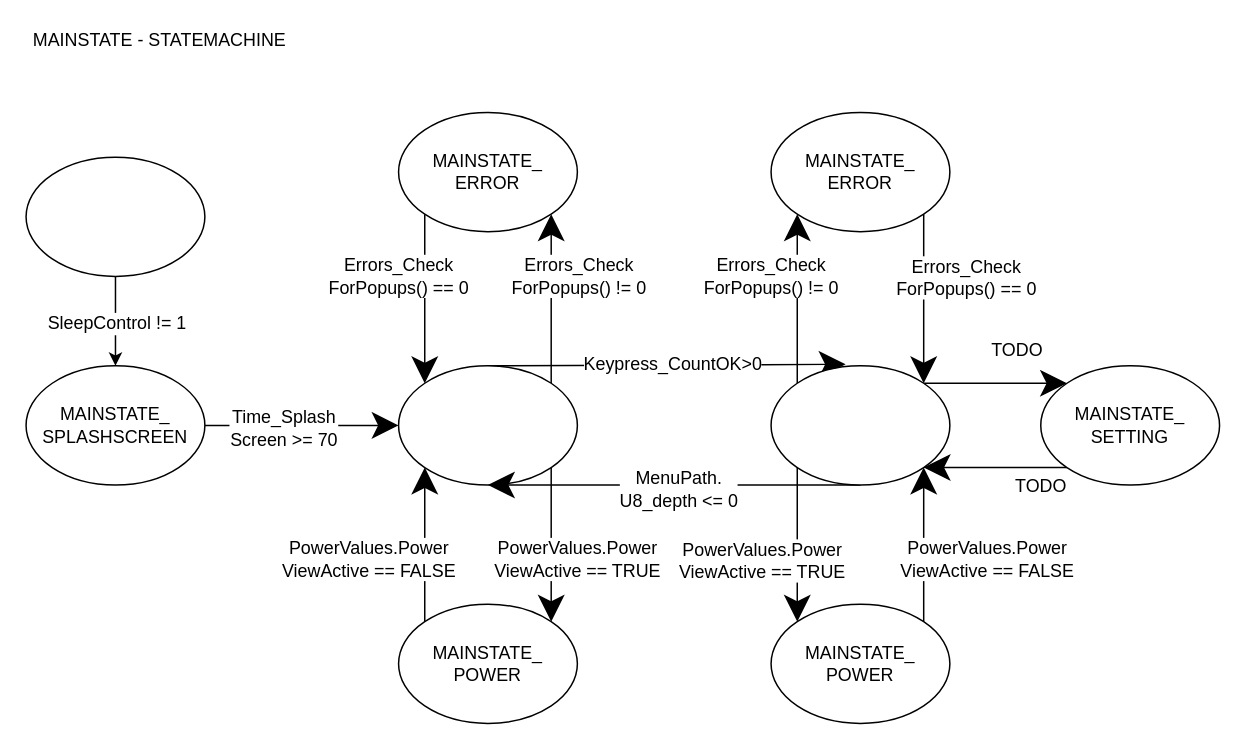
This 1246x749 diagram has some shape labels left out. The shapes that lost their labels are listed below. From the top down, each one's box as (x1, y1, x2, y2) in pixels, then its label:
(25, 156, 205, 276): MAINSTATE_SLEEP
(397, 364, 577, 485): MAINSTATE_ MAINVIEW
(770, 364, 950, 485): MAINSTATE_ MENU
